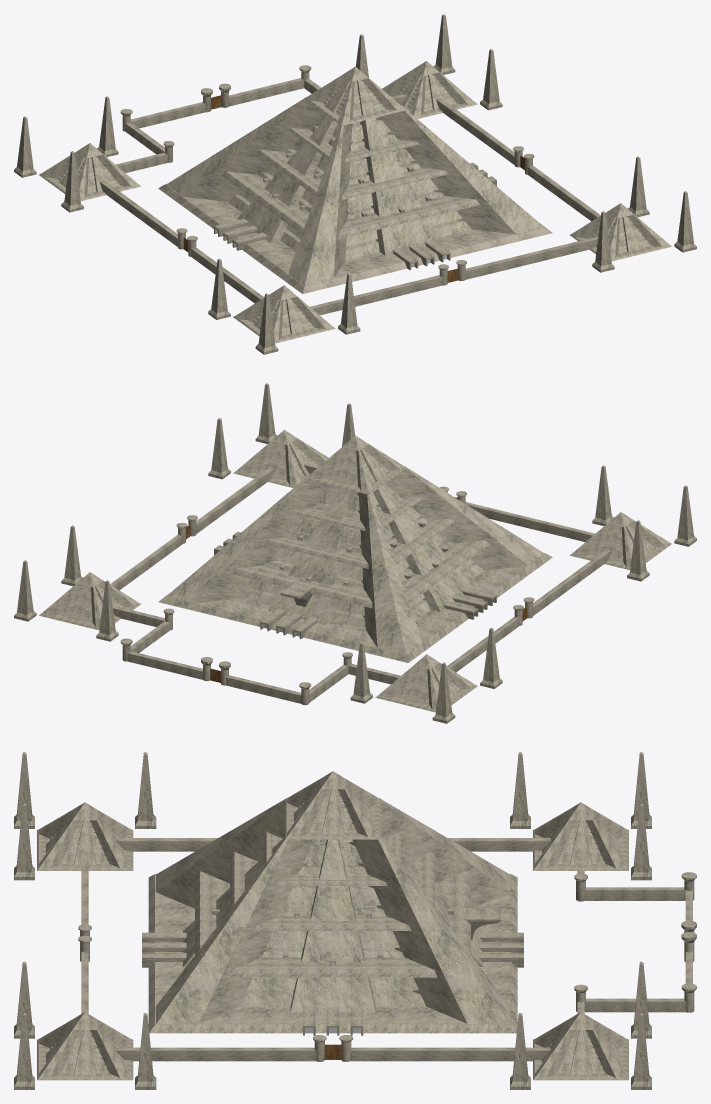
Rendered from pir.obj.
3 renders of one model, top to bottom at view 1: azimuth 30°, elevation 25°; view 2: azimuth 150°, elevation 25°; view 3: azimuth 270°, elevation 25°, orthographic. The views are drawn at different scales.
Visible parts, largest first — view 1: Object_STUCCO8.jpg; view 2: Object_STUCCO8.jpg; view 3: Object_STUCCO8.jpg.
Part boxes in pixels (<box>): Object_STUCCO8.jpg: <box>14,14,696,354</box>; Object_STUCCO8.jpg: <box>14,383,696,723</box>; Object_STUCCO8.jpg: <box>14,752,696,1089</box>.
Bounding box in the file's own units: 2.34 × 0.7438 × 2.5.
